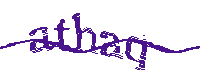a: (27, 26, 55, 54), (100, 29, 122, 61)
h: (70, 11, 98, 55)
q: (125, 33, 150, 70)
t: (53, 16, 70, 53)
